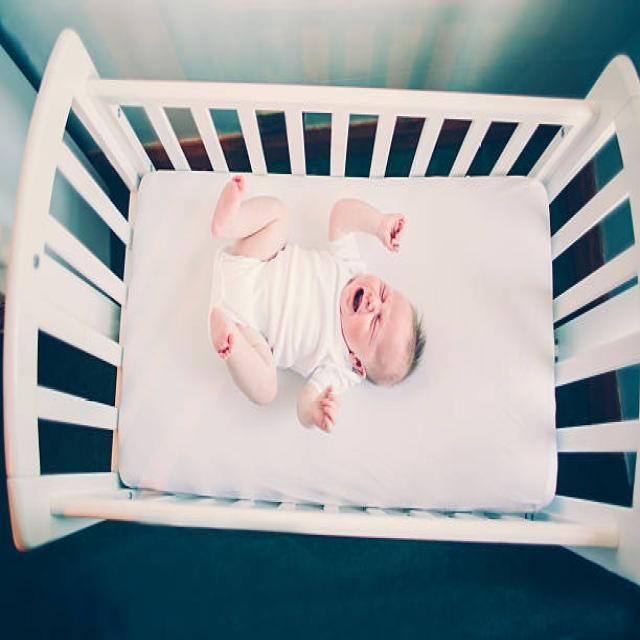baby: (207, 172, 426, 433)
crib: (2, 25, 638, 588)
